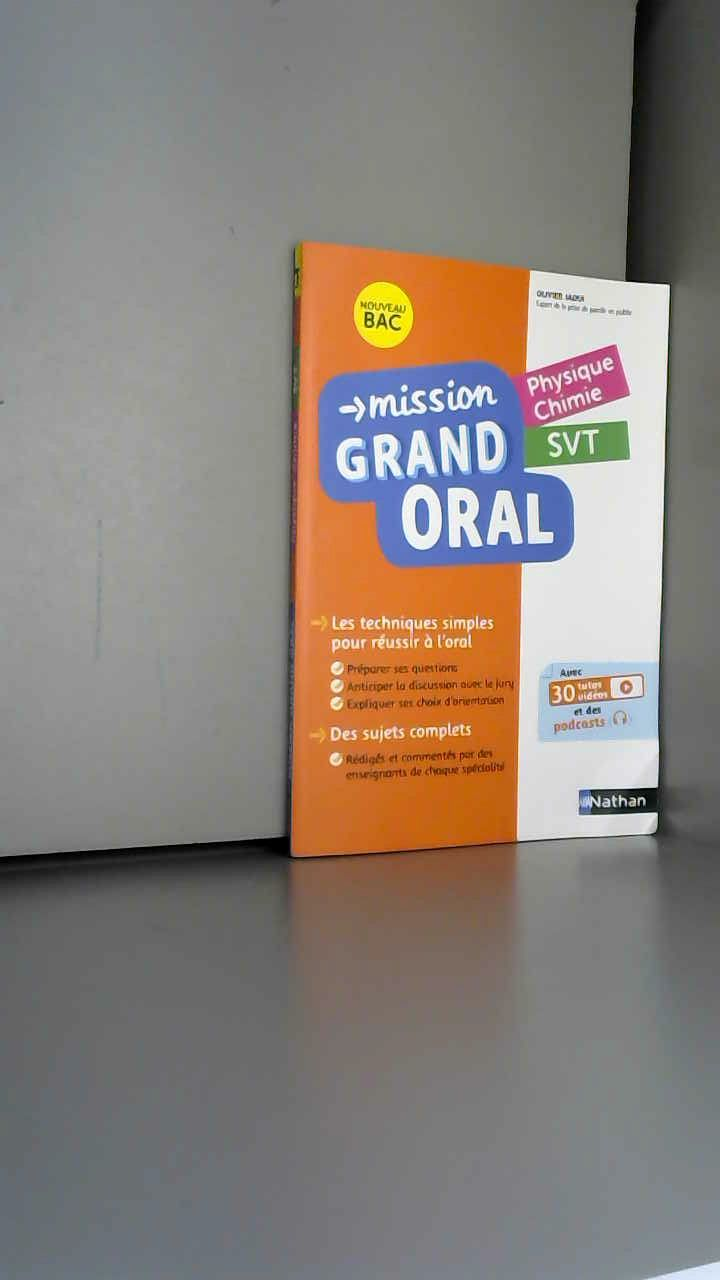book: (260, 220, 720, 944)
